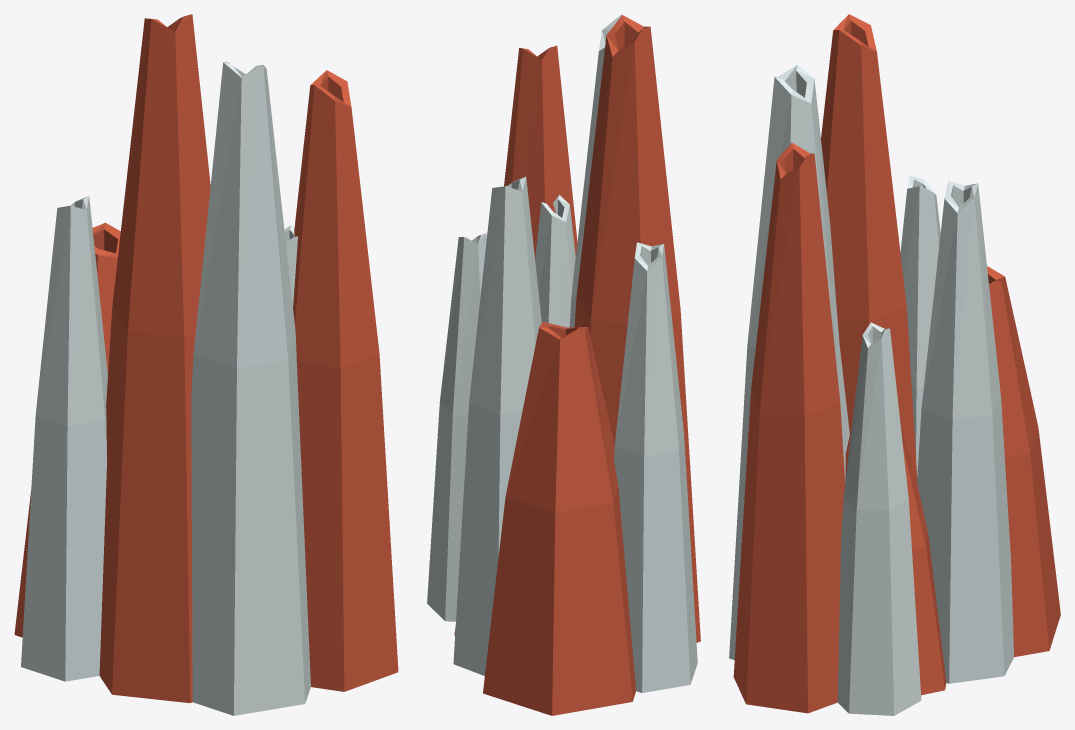
Rendered from TP_Plant03.fbx.
The picture shows the model from 3 angles, left to right: view 1: azimuth 30°, elevation 25°; view 2: azimuth 150°, elevation 25°; view 3: azimuth 270°, elevation 25°; orthographic projection. The views are drawn at different scales.
Visible parts, largest first — view 1: TP_Plant03; view 2: TP_Plant03; view 3: TP_Plant03.
Boxes of the visible parts, <box> form: TP_Plant03: <box>14,14,398,715</box>; TP_Plant03: <box>427,14,700,715</box>; TP_Plant03: <box>729,14,1060,715</box>.
Bounding box in the file's own units: 38.28 × 79.32 × 39.44.
Materials: 1 (1 with a texture image).
